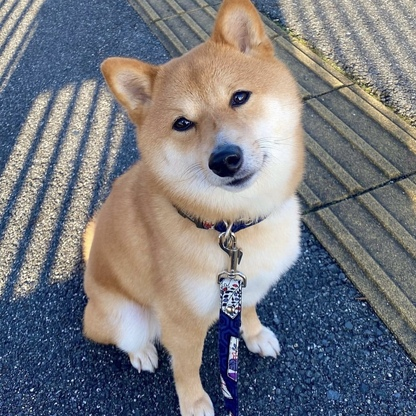shiba: (69, 1, 315, 416)
